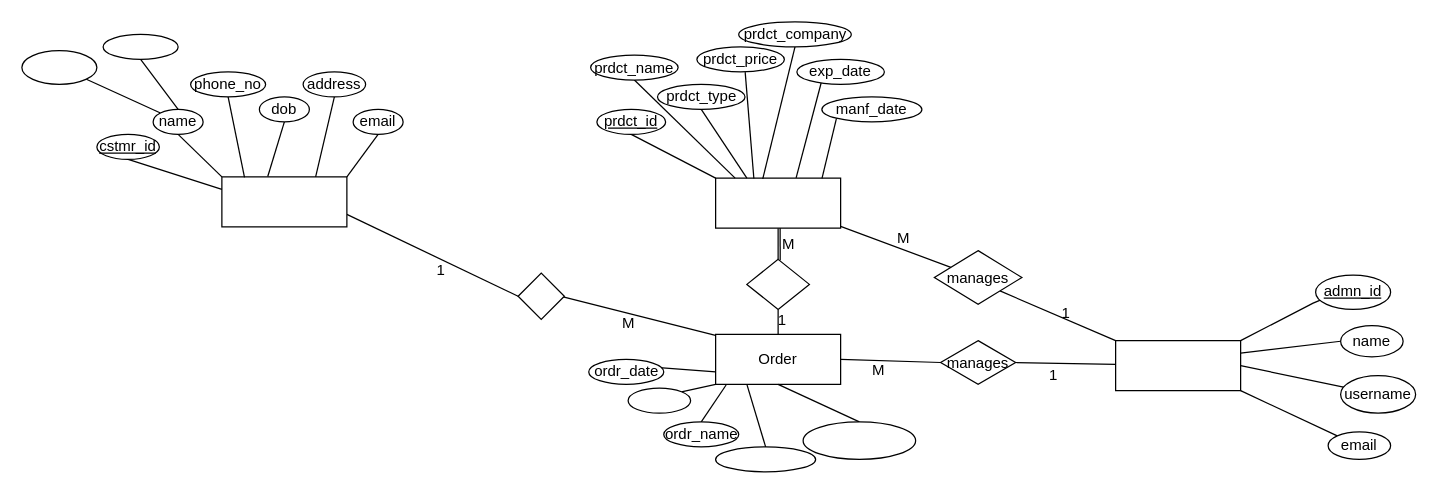
The diagram is 1438 pixels wide and 494 high, and some of its shapes have lost their labels. The centre of each missing label's shape, as x and y in pixels:
Admin: the point at 1177,365
Customer: the point at 284,201
f_name: the point at 59,66
have: the point at 777,283
l_name: the point at 140,46
ordr_address: the point at 765,459
ordr_id: the point at 659,400
payment_mode: the point at 859,440
place: the point at 540,295
Products: the point at 777,202
